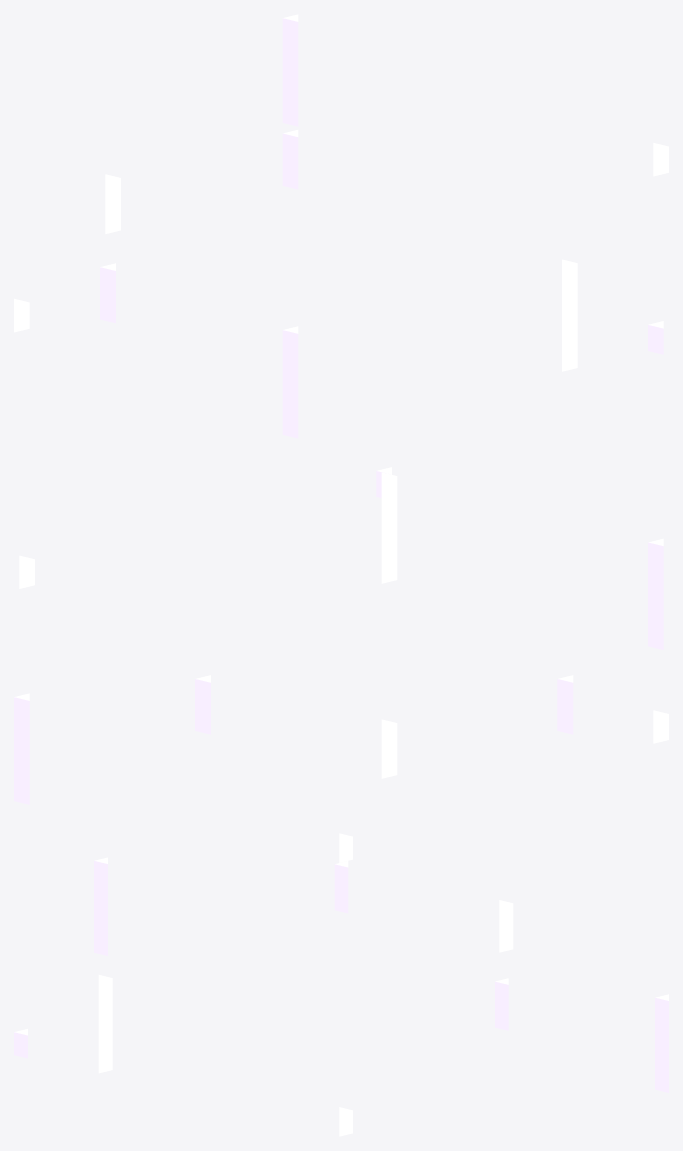
Rendered from high-lofi.glb.
The picture shows the model from 3 angles, top to bottom: view 1: azimuth 30°, elevation 25°; view 2: azimuth 150°, elevation 25°; view 3: azimuth 270°, elevation 25°; orthographic projection. The views are drawn at different scales.
Parts seen in each view (by area): view 1: High.001.mdd; view 2: High.001.mdd; view 3: High.001.mdd.
Part boxes in pixels (<box>): High.001.mdd: <box>14,14,668,438</box>; High.001.mdd: <box>14,467,668,804</box>; High.001.mdd: <box>14,833,668,1136</box>.
Bounding box in the file's own units: 7.17 × 1.1 × 7.08.
